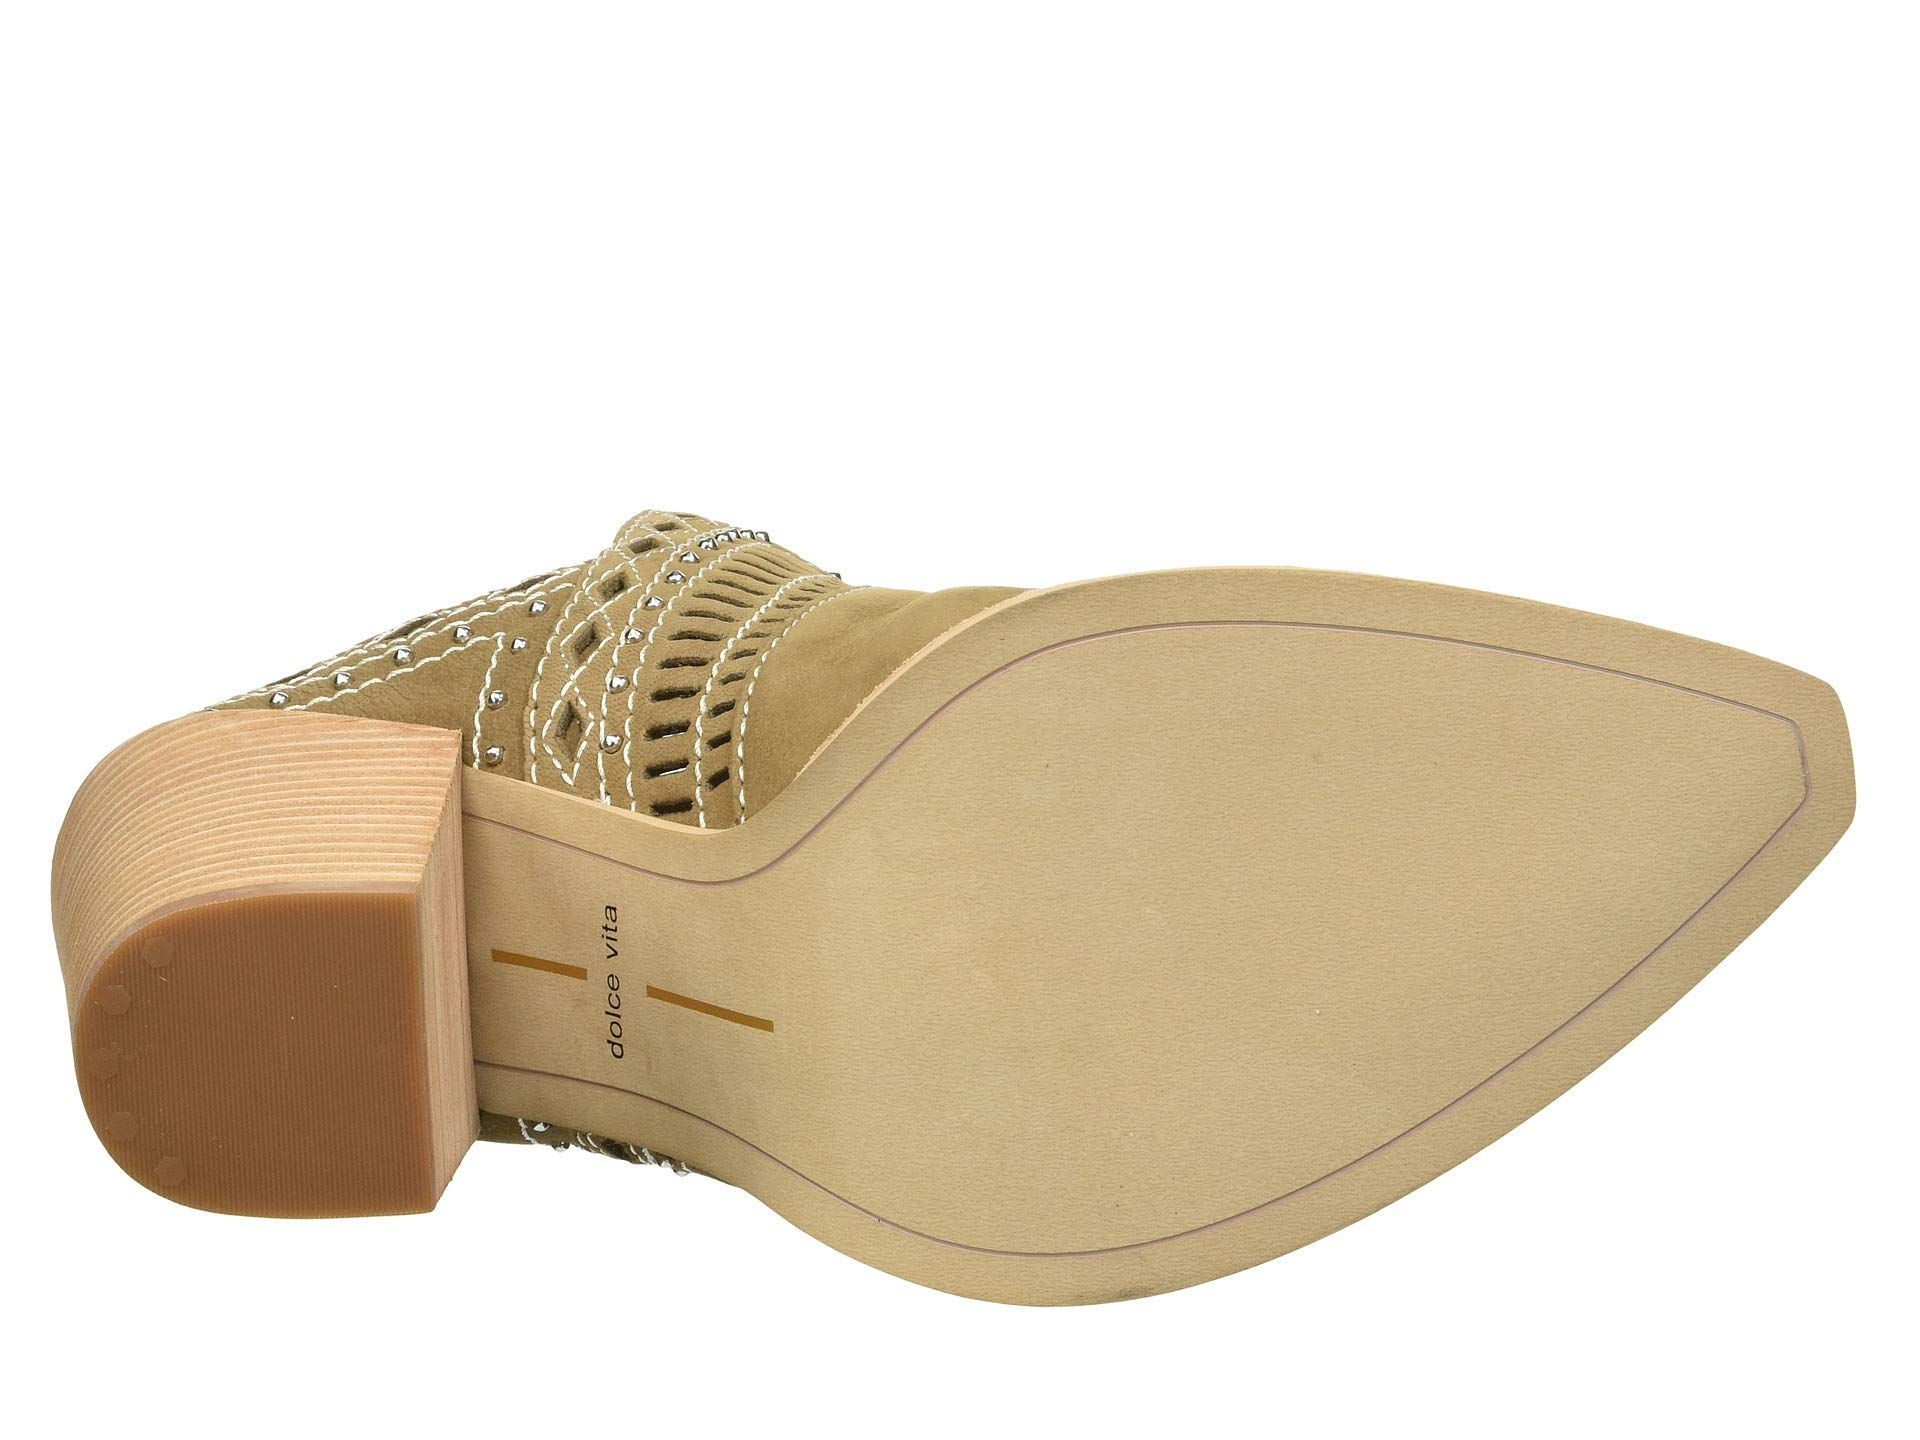circle: (88, 980, 237, 1209)
exclude: (488, 452, 831, 1370)
line: (1099, 599, 1584, 755)
